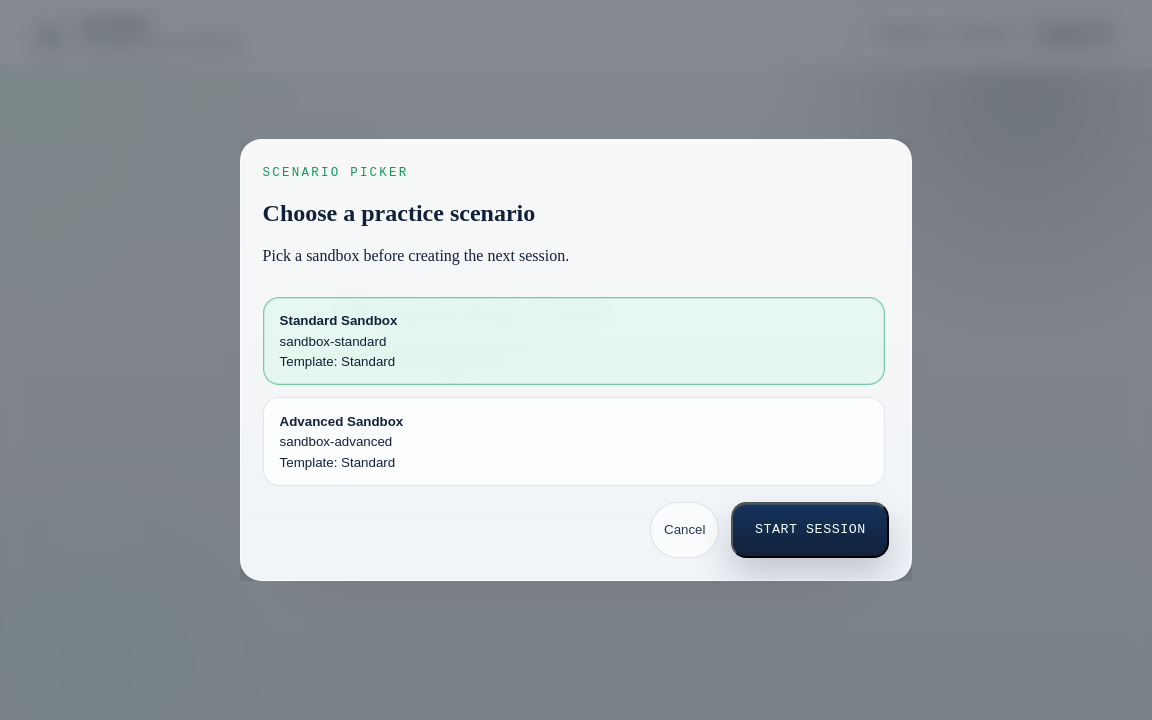
App › uses the selected scenario when the modal confirms a new session
The width and height of the screenshot is (1152, 720).
Expected: the dialog "Choose a practice scenario" is shown, x1=240 y1=139 x2=912 y2=580
Click the option "Advanced Sandbox sandbox-advanced Template: Standard" at (341, 421), box x1=263 y1=397 x2=885 y2=486
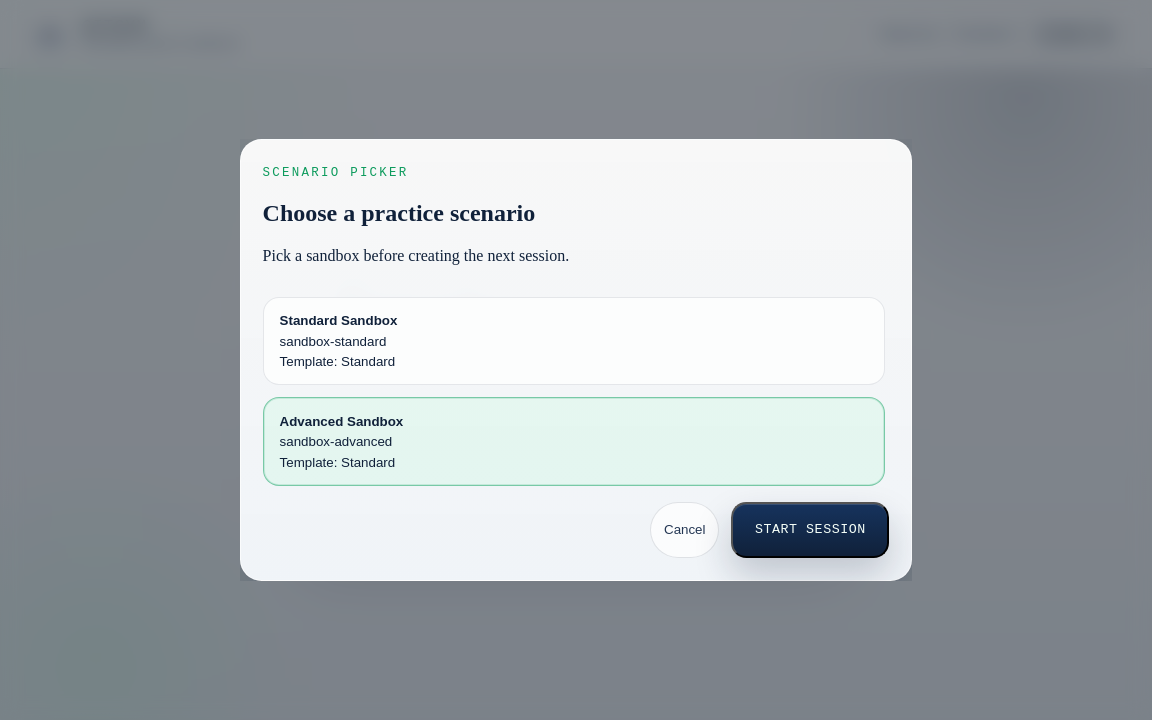
Click the button "Start Session" at (810, 530), box x1=731 y1=502 x2=889 y2=558
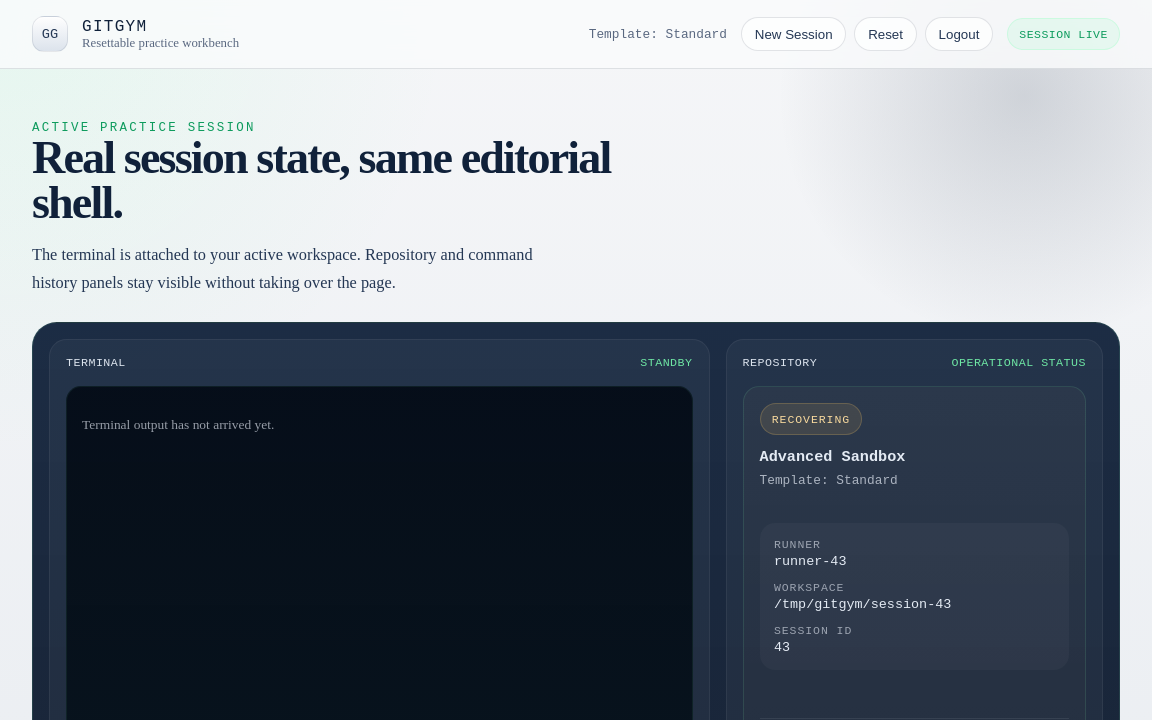
Expected: the text "Session live" is shown, x1=1007 y1=18 x2=1120 y2=50
Expected: the text "runner-43" is shown, x1=774 y1=554 x2=846 y2=569
